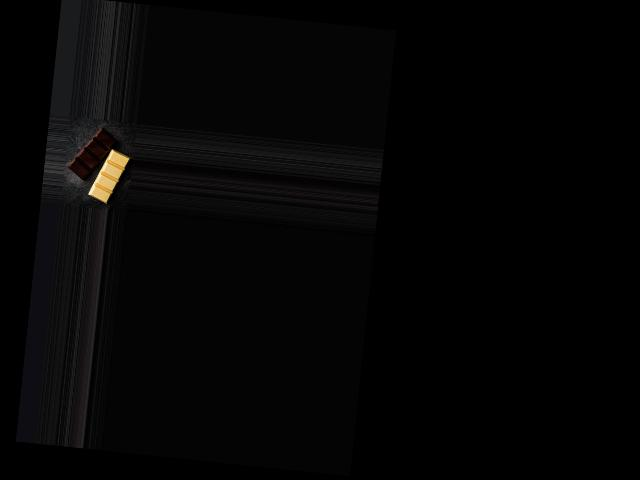chocolate: (65, 125, 132, 208)
